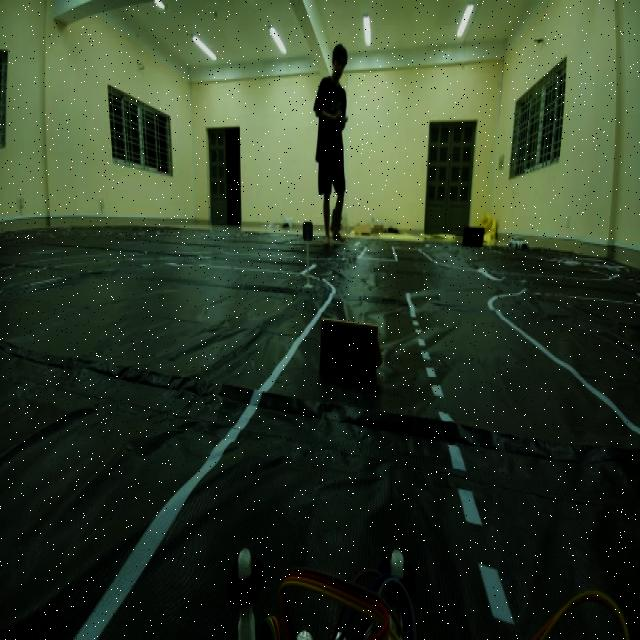roadblock: (314, 309, 388, 391)
